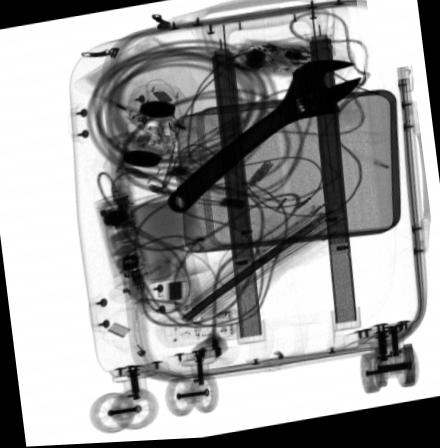Wrench: (165, 63, 361, 215)
